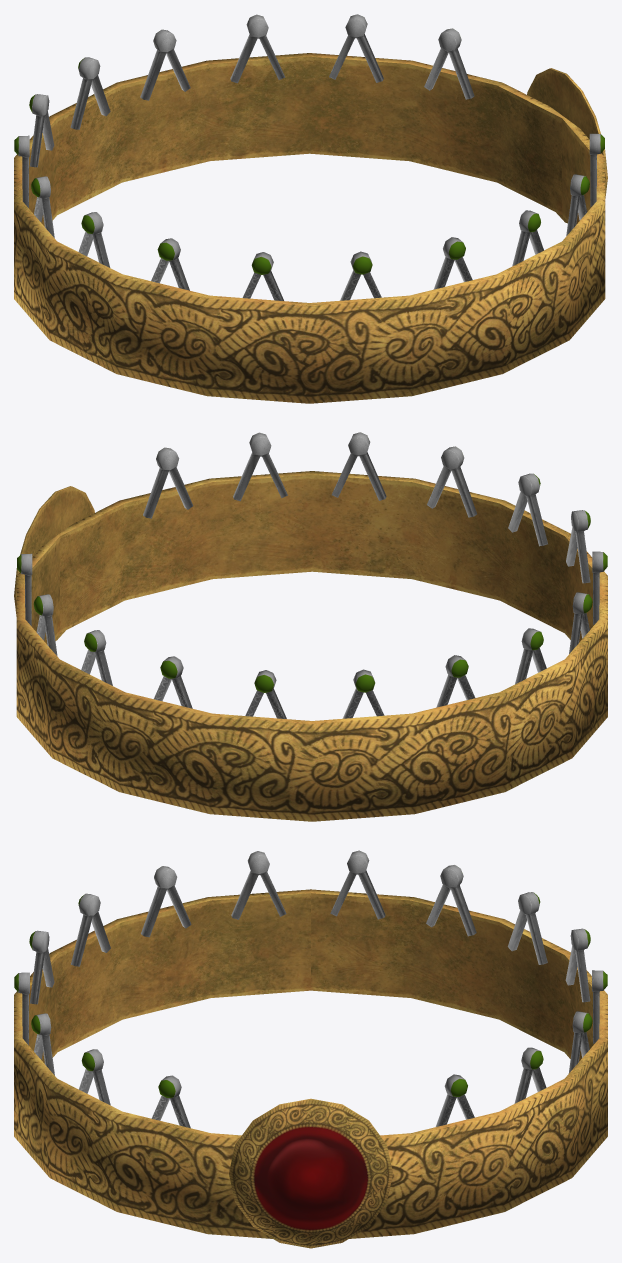
3 renders of one model, top to bottom at view 1: azimuth 30°, elevation 25°; view 2: azimuth 150°, elevation 25°; view 3: azimuth 270°, elevation 25°, orthographic.
Parts seen in each view (by area): view 1: ring_low001, scheibe_low002, zacken_low016, zacken_low013, zacken_low012, zacken_low014, zacken_low015, zacken_low011, zacken_low004, zacken_low007, zacken_low008, zacken_low003 (+6 smaller); view 2: ring_low001, scheibe_low002, zacken_low004, zacken_low001, zacken_low005, zacken_low003, zacken_low002, zacken_low006, zacken_low013, zacken_low010, zacken_low009, zacken_low014 (+6 smaller); view 3: ring_low001, scheibe_low002, zacken_low010, zacken_low007, zacken_low006, zacken_low011, zacken_low008, zacken_low009, zacken_low005, zacken_low012, zacken_low001, zacken_low016 (+6 smaller).
Boxes of the visible parts, box(x1,y1,x2,y2) form: ring_low001: box(14, 53, 605, 403); scheibe_low002: box(527, 68, 607, 223); zacken_low016: box(424, 28, 474, 99); zacken_low013: box(140, 29, 190, 100); zacken_low012: box(70, 57, 110, 129); zacken_low014: box(230, 14, 285, 83); zacken_low015: box(329, 14, 383, 82); zacken_low011: box(29, 94, 54, 167); zacken_low004: box(433, 237, 472, 289); zacken_low007: box(151, 238, 189, 290); zacken_low008: box(78, 212, 110, 267); zacken_low003: box(512, 210, 543, 266); ring_low001: box(16, 471, 607, 821); scheibe_low002: box(14, 486, 94, 640); zacken_low004: box(427, 446, 476, 517); zacken_low001: box(143, 447, 193, 518); zacken_low005: box(508, 473, 547, 546); zacken_low003: box(331, 432, 386, 500); zacken_low002: box(233, 432, 287, 501); zacken_low006: box(566, 510, 590, 583); zacken_low013: box(154, 656, 192, 708); zacken_low010: box(436, 655, 475, 707); zacken_low009: box(515, 628, 546, 684); zacken_low014: box(81, 630, 112, 685); ring_low001: box(14, 889, 607, 1238); scheibe_low002: box(229, 1098, 392, 1248); zacken_low010: box(426, 865, 476, 936); zacken_low007: box(141, 866, 191, 937); zacken_low006: box(71, 893, 110, 966); zacken_low011: box(507, 892, 547, 964); zacken_low008: box(231, 851, 286, 919); zacken_low009: box(330, 850, 385, 919); zacken_low005: box(29, 930, 54, 1004); zacken_low012: box(565, 928, 590, 1002); zacken_low001: box(151, 1075, 190, 1128); zacken_low016: box(435, 1074, 474, 1126).
Bounding box in the file's own units: 56.49 × 15.16 × 54.28.
Materials: 1 (1 with a texture image).
